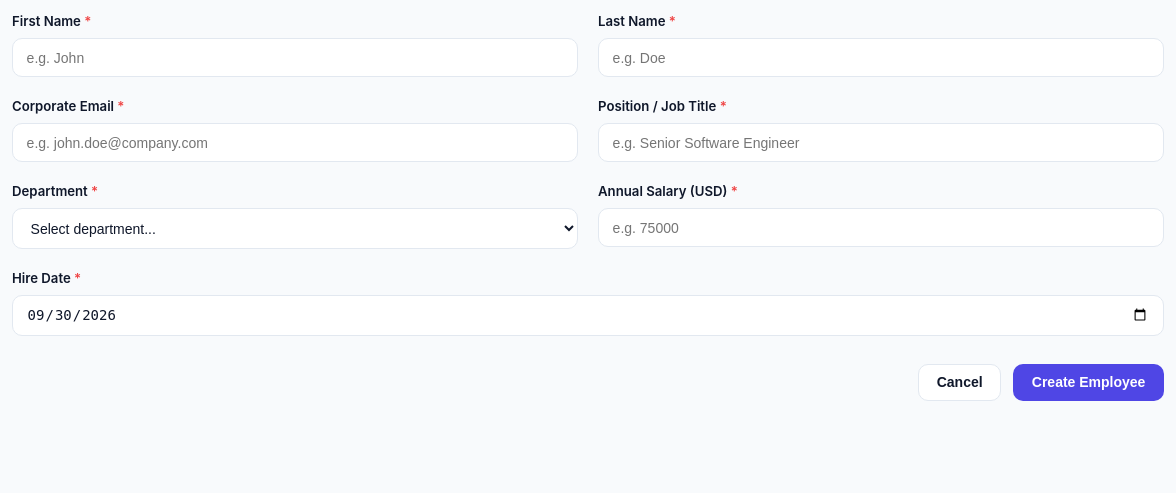
EmployeeForm Component › shows validation errors when submitting an empty form
Click the button "Create Employee" at (1089,382), box [1013,364,1164,401]
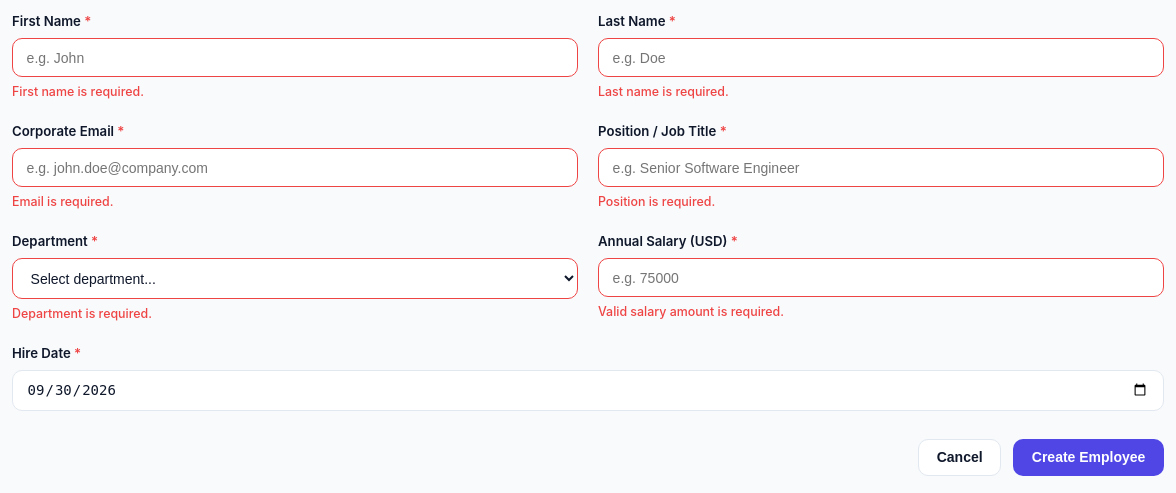
Expected: the text "First name is required." is shown, [12,84,144,99]
Expected: the text "Last name is required." is shown, [598,84,729,99]
Expected: the text "Email is required." is shown, [12,194,114,209]
